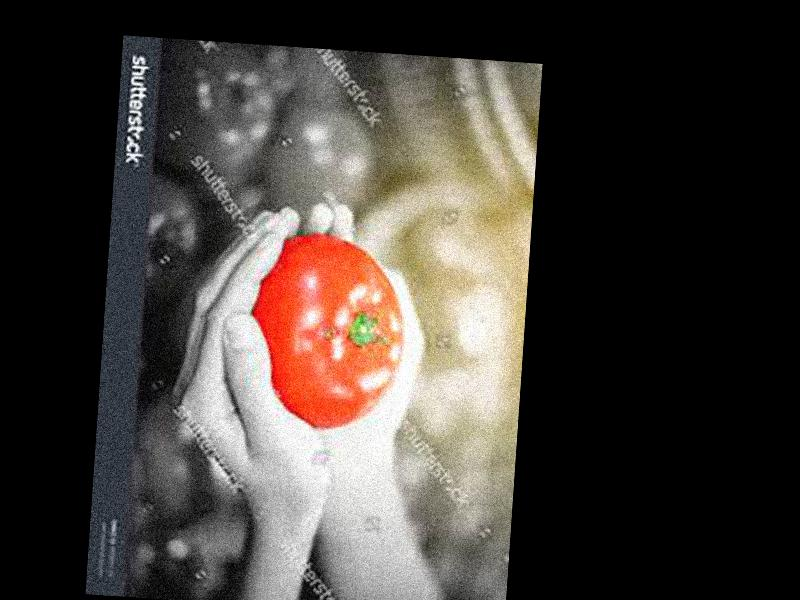Tomato: (245, 231, 409, 433)
